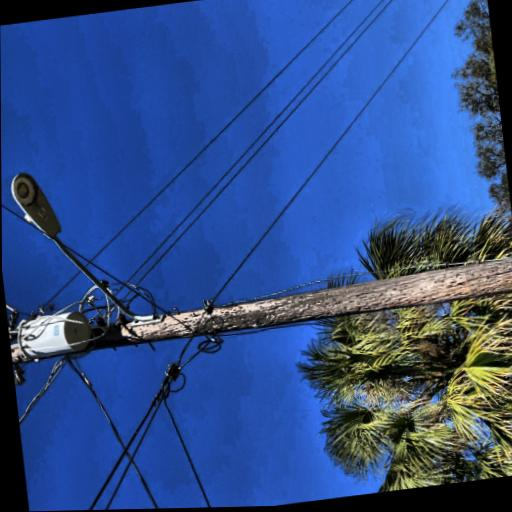pole: (32, 81, 136, 511)
street light: (63, 141, 232, 317)
transformer: (47, 147, 94, 235)
